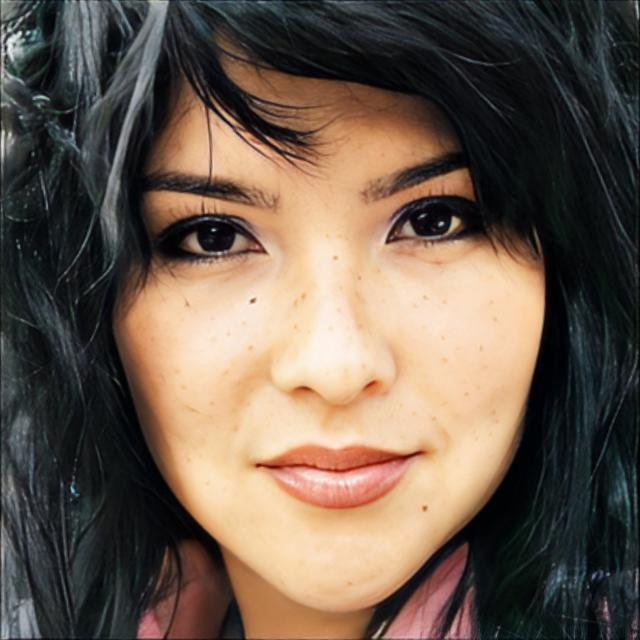content: (116, 36, 550, 614)
